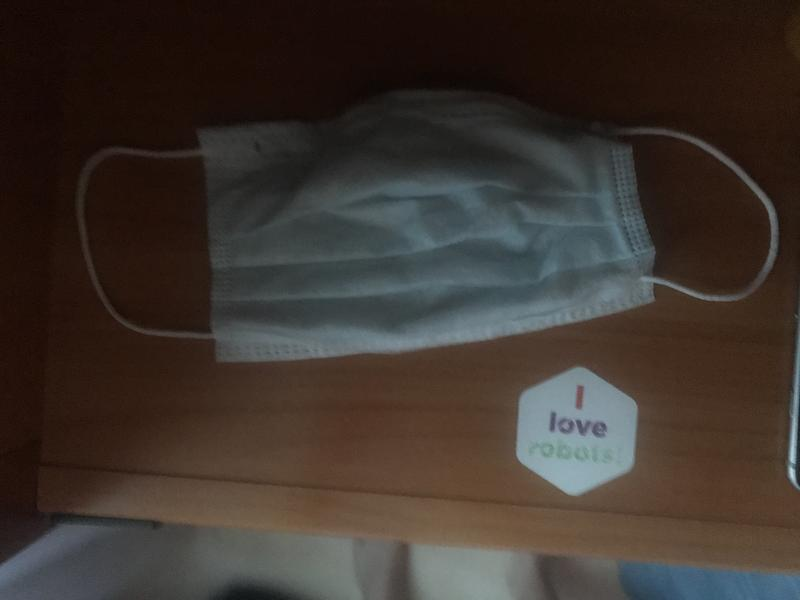medical_mask: (75, 90, 777, 361)
